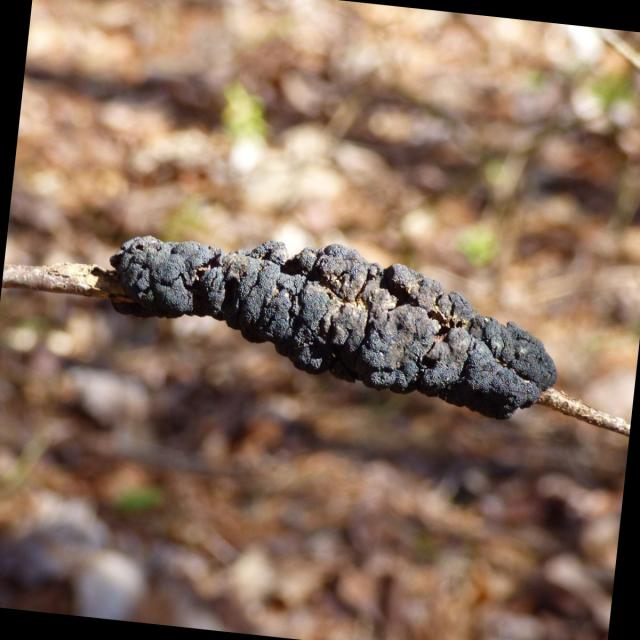Black_knot: (109, 233, 558, 421)
